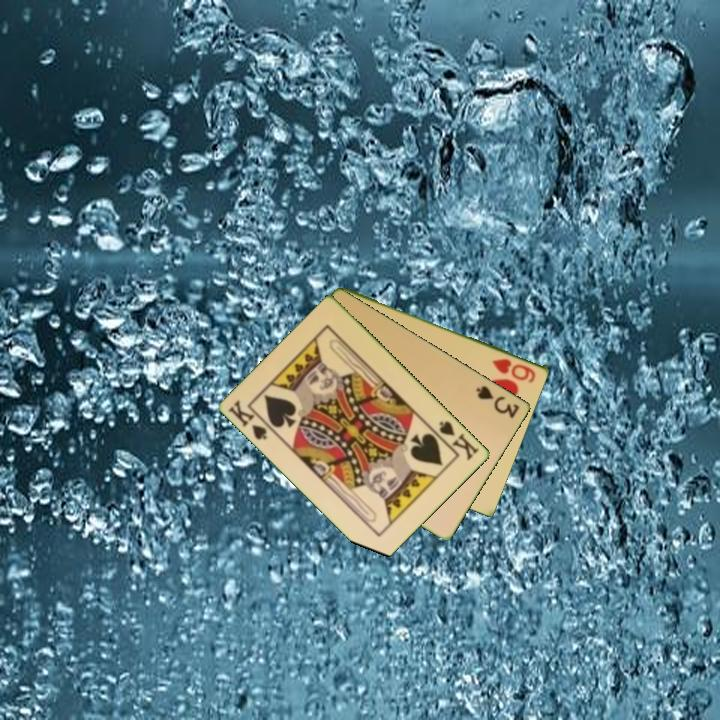3s: (473, 382, 523, 421)
6h: (489, 355, 539, 386)
Ks: (225, 396, 277, 443), (430, 417, 482, 463)
